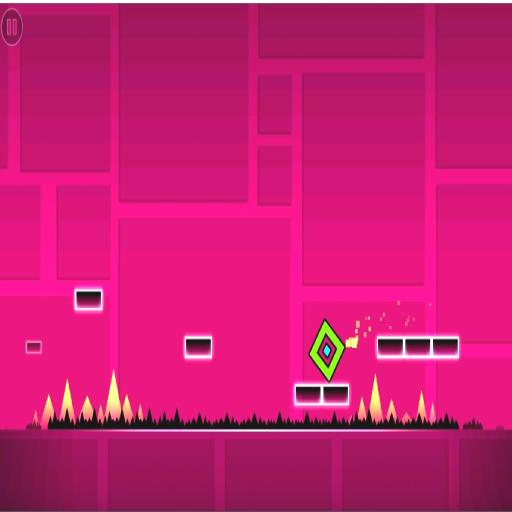block: (375, 335, 460, 364), (289, 383, 351, 407), (71, 287, 105, 311), (182, 335, 212, 362), (24, 338, 44, 358)
player: (310, 319, 345, 380)
spike: (104, 371, 120, 421), (369, 376, 382, 423), (59, 381, 74, 421), (40, 395, 53, 428), (80, 397, 92, 421), (122, 395, 132, 423), (417, 391, 424, 422), (386, 400, 395, 422), (357, 398, 365, 420), (429, 403, 434, 424), (401, 412, 409, 424), (98, 405, 103, 424), (137, 405, 142, 421), (32, 411, 37, 424), (348, 416, 351, 423)
